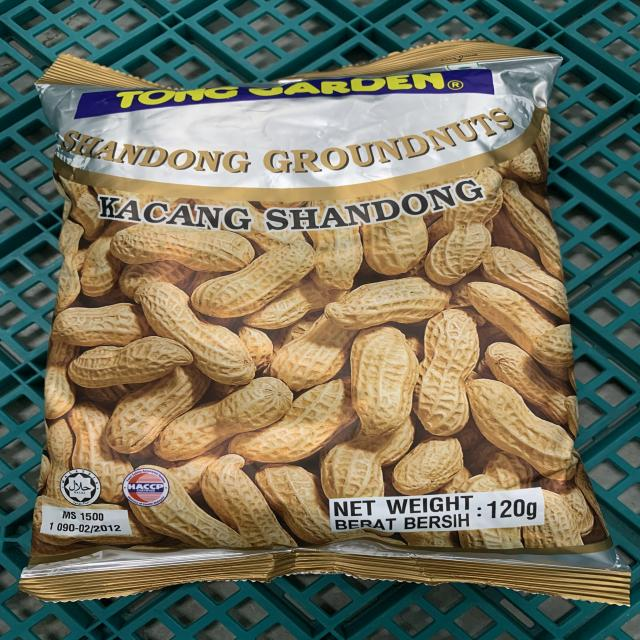object_name: (62, 68, 570, 576)
